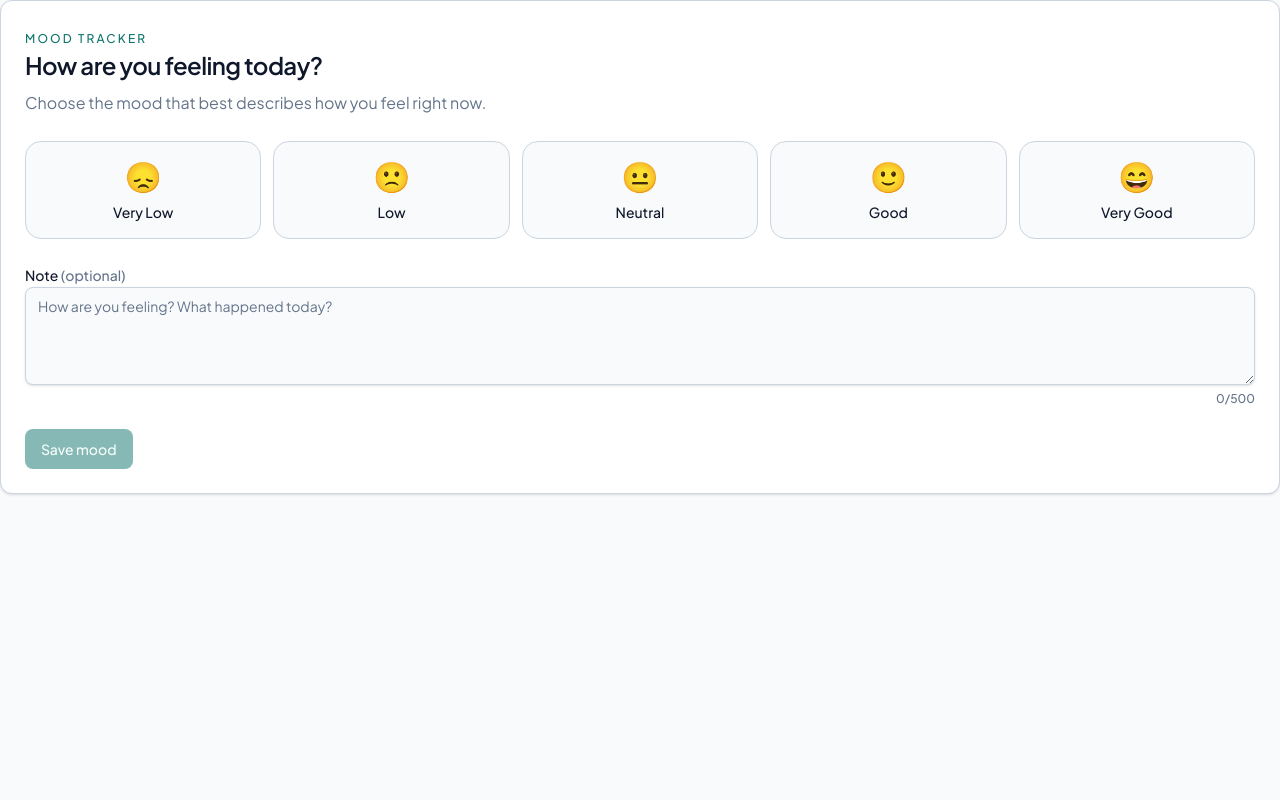
MoodTracker › shows a safe error when saving fails
Click the radio button labelled "🙁 Low". click: click(392, 190)
box: top-left (273, 141), bottom-right (510, 239)
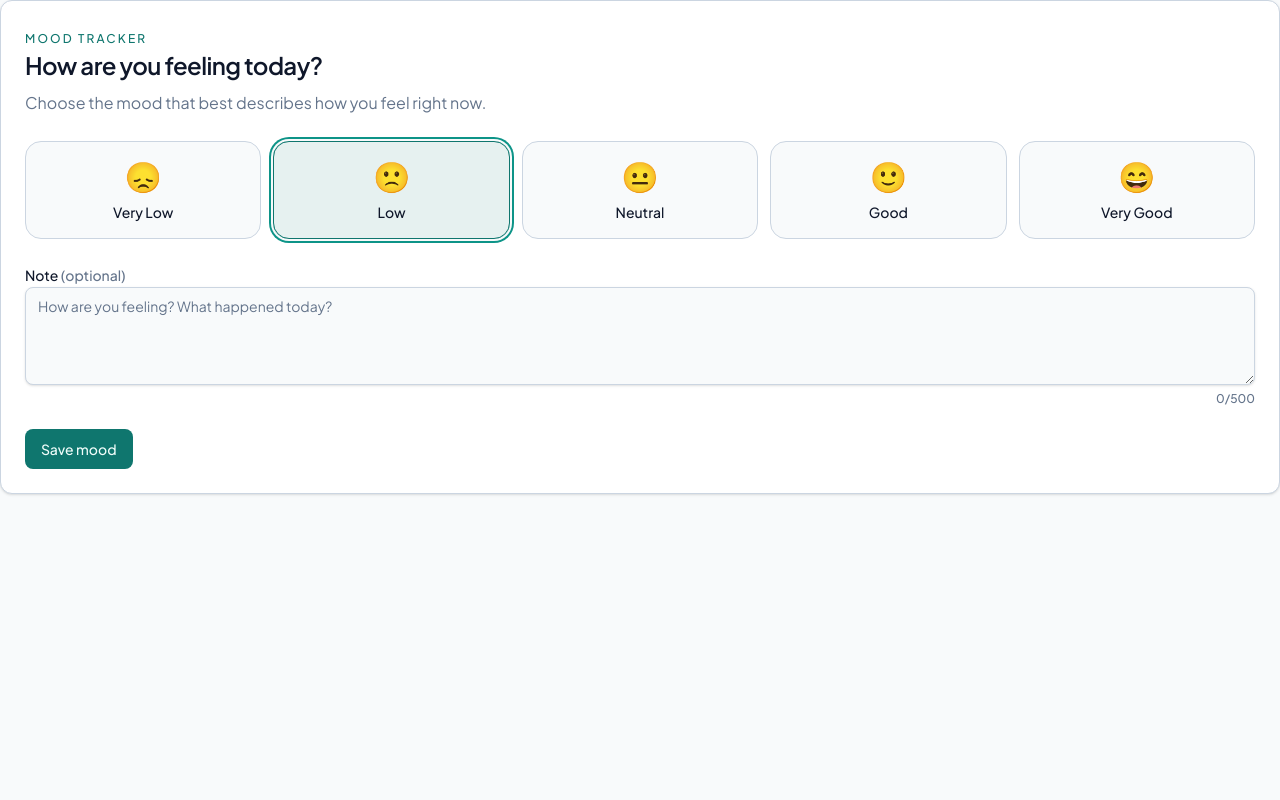
Click the button "Save mood". click: click(79, 449)
box: top-left (25, 429), bottom-right (132, 469)
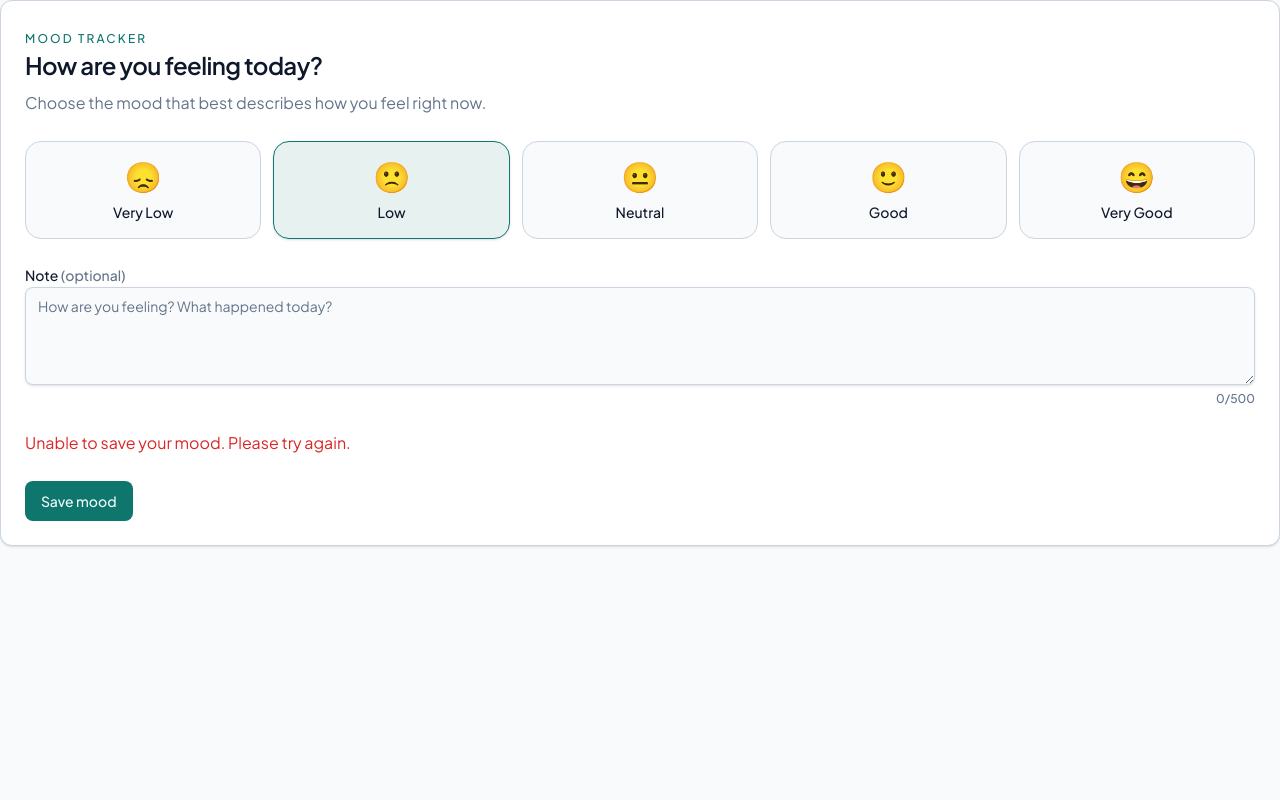
Result: the message reads "Unable to save your mood. Please try again." at top-left (25, 432), bottom-right (351, 453)
